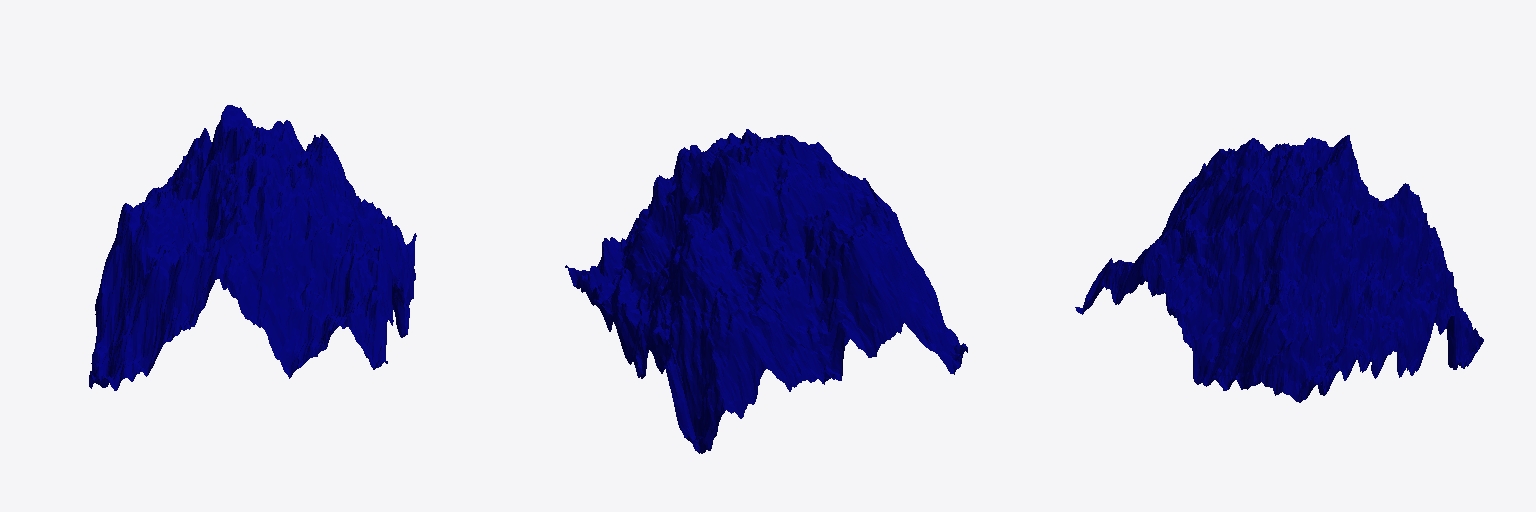
The model's file is obj-mountain.obj.
3 views of the same model, side by side, from view 1: azimuth 30°, elevation 25°; view 2: azimuth 150°, elevation 25°; view 3: azimuth 270°, elevation 25° (orthographic).
Visible parts, largest first — view 1: QuadPatch01; view 2: QuadPatch01; view 3: QuadPatch01.
Part boxes in pixels (left/top/right/bottom): QuadPatch01: left=89, top=105, right=416, bottom=390; QuadPatch01: left=565, top=129, right=967, bottom=453; QuadPatch01: left=1075, top=135, right=1483, bottom=402.
Bounding box in the file's own units: 282 × 184 × 274.